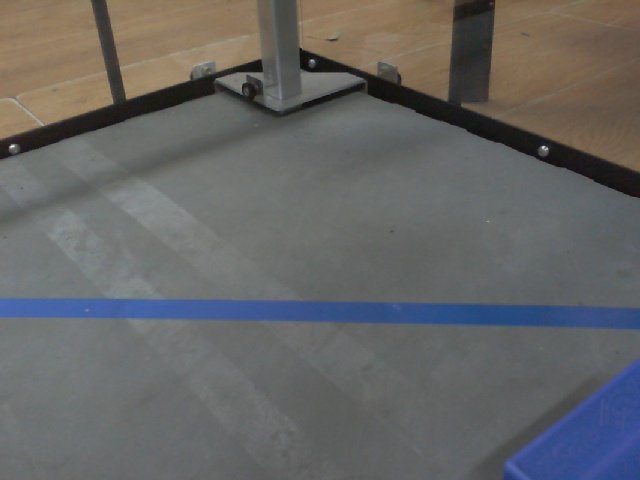BlueSample: (498, 346, 640, 479)
